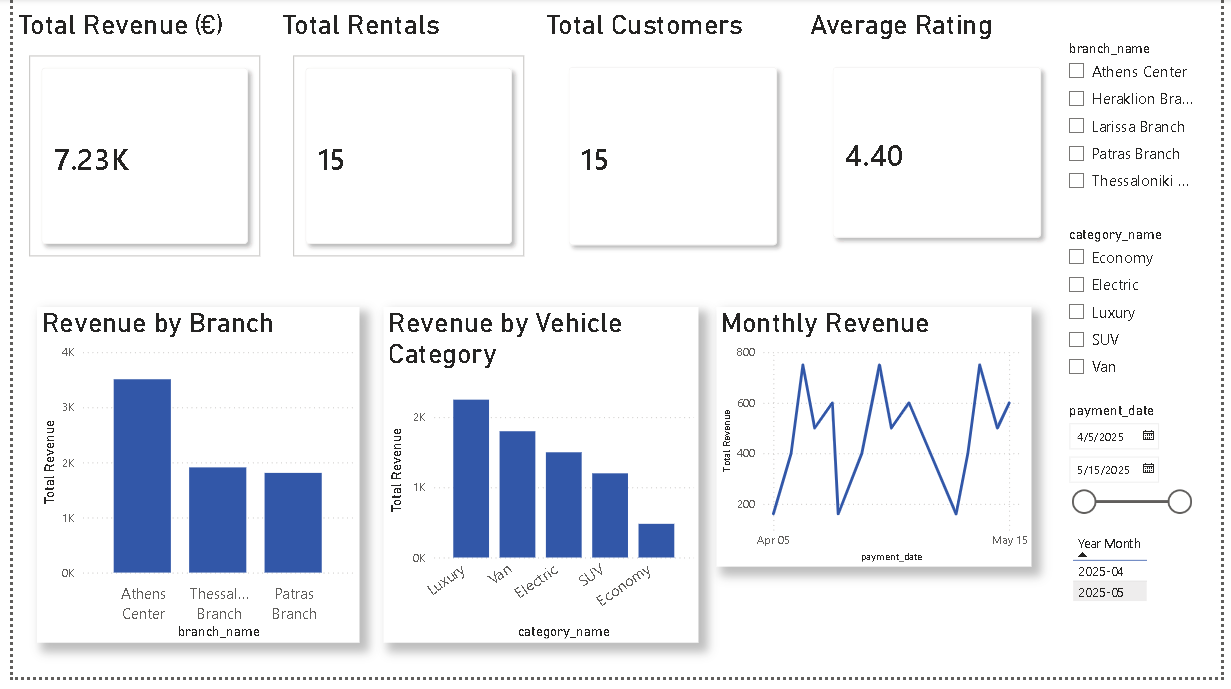

This screenshot's page, from the dashboard's own definition file:
{"tool":"powerbi","page":{"name":"Executive Overview","canvas":[1280,720],"ordinal":0},"visuals":[{"type":"cardVisual","title":"Total Revenue (€)","fields":{"Data":["Sum(PAYMENT.amount)"]},"box":[0,11.1,279.9,279.9],"z":0},{"type":"cardVisual","title":"Total Rentals","fields":{"Data":["Count(RENTAL.rental_id)"]},"box":[279.9,11.1,279.9,279.9],"z":1000},{"type":"cardVisual","title":"Total Customers","fields":{"Data":["Count(CUSTOMER.customer_id)"]},"box":[559.9,11.1,279.9,279.9],"z":2000},{"type":"cardVisual","title":"Average Rating","fields":{"Data":["Avg(REVIEW.rating)"]},"box":[839.8,11.1,279.9,272],"z":3000},{"type":"clusteredColumnChart","title":"Revenue by Branch","fields":{"Category":["BRANCH.branch_name"],"Y":["Sum(PAYMENT.amount)"]},"box":[25.4,327.7,342,356.3],"z":4000},{"type":"clusteredColumnChart","title":"Revenue by Vehicle Category","fields":{"Category":["CATEGORY.category_name"],"Y":["Sum(PAYMENT.amount)"]},"box":[392.9,327.7,334,356.3],"z":5000},{"type":"lineChart","title":"Monthly Revenue","fields":{"Y":["Sum(PAYMENT.amount)"],"Category":["PAYMENT.payment_date.Variation.Date Hierarchy.Year"]},"box":[746,327.7,334,275.2],"z":6000},{"type":"slicer","fields":{"Values":["BRANCH.branch_name"]},"box":[1107.1,39.8,151.1,187.7],"z":7000},{"type":"slicer","fields":{"Values":["CATEGORY.category_name"]},"box":[1107.1,237,151.1,179.7],"z":8000},{"type":"slicer","fields":{"Values":["PAYMENT.payment_date"]},"box":[1107.1,423.1,151.1,152.7],"z":9000},{"type":"tableEx","fields":{"Values":["Calendar.Year Month"]},"box":[1118.2,561.5,128.8,122.5],"z":10000}]}

Visuals, with their boxes in screenshot pixels (x1, y1, x2, y2), scaled from the page's 1280x720 canvas onto the 1231x689 screenshot:
"Total Revenue (€)" cardVisual: [left=0, top=11, right=269, bottom=278]
"Total Rentals" cardVisual: [left=269, top=11, right=538, bottom=278]
"Total Customers" cardVisual: [left=538, top=11, right=808, bottom=278]
"Average Rating" cardVisual: [left=808, top=11, right=1077, bottom=271]
"Revenue by Branch" clusteredColumnChart: [left=24, top=314, right=353, bottom=655]
"Revenue by Vehicle Category" clusteredColumnChart: [left=378, top=314, right=699, bottom=655]
"Monthly Revenue" lineChart: [left=717, top=314, right=1039, bottom=577]
slicer - BRANCH.branch_name: [left=1065, top=38, right=1210, bottom=218]
slicer - CATEGORY.category_name: [left=1065, top=227, right=1210, bottom=399]
slicer - PAYMENT.payment_date: [left=1065, top=405, right=1210, bottom=551]
tableEx - Calendar.Year Month: [left=1075, top=537, right=1199, bottom=655]
